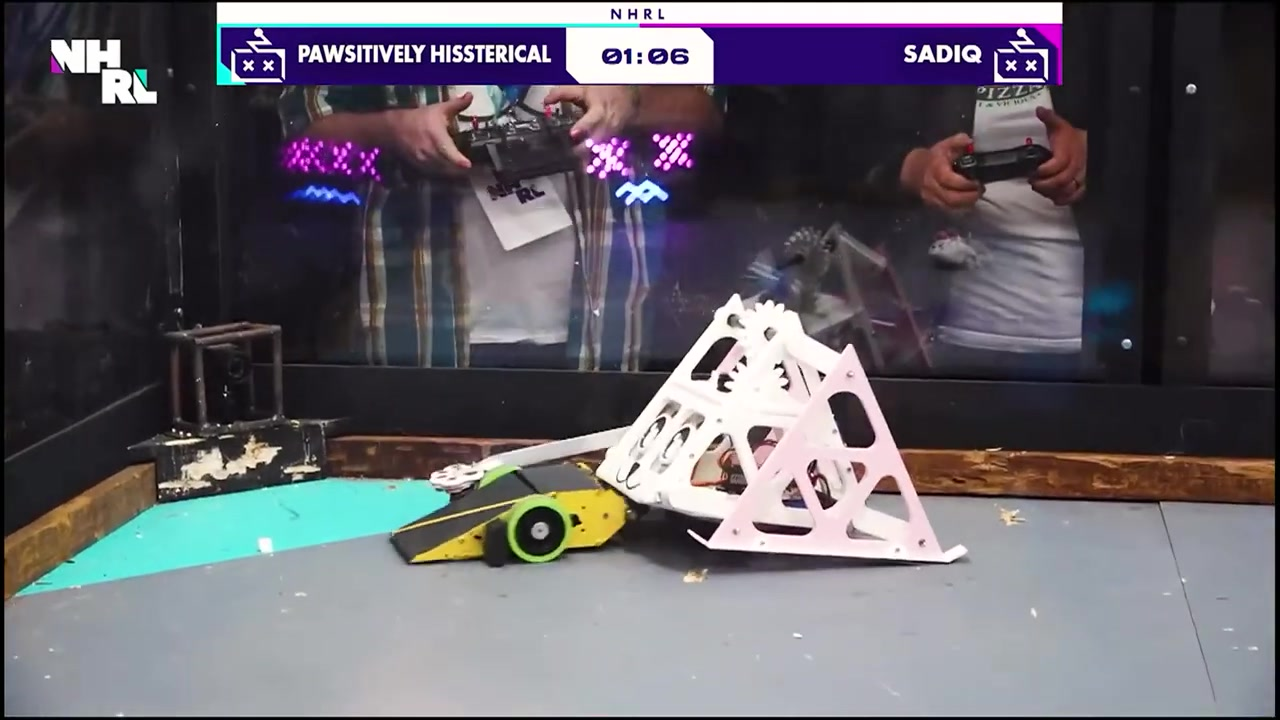combatbot: (596, 291, 966, 563), (388, 462, 634, 571)
